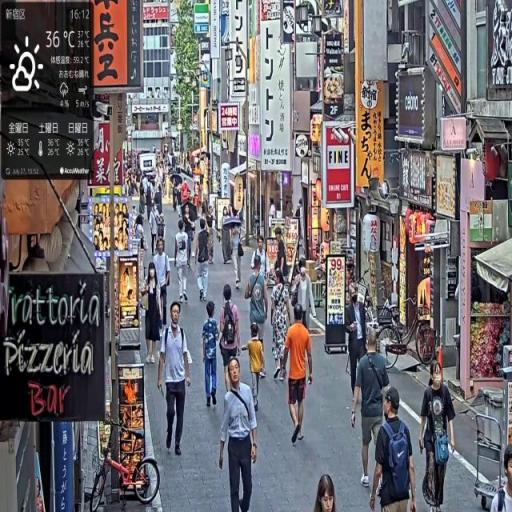person: (351, 328, 393, 492), (218, 356, 259, 512), (420, 360, 459, 512), (371, 386, 418, 512), (159, 299, 192, 460), (282, 305, 314, 448), (218, 283, 243, 396), (202, 299, 222, 411), (244, 322, 268, 411), (145, 263, 164, 369), (153, 237, 171, 331), (489, 439, 512, 512), (195, 216, 214, 304), (175, 216, 192, 307), (312, 474, 339, 512)
